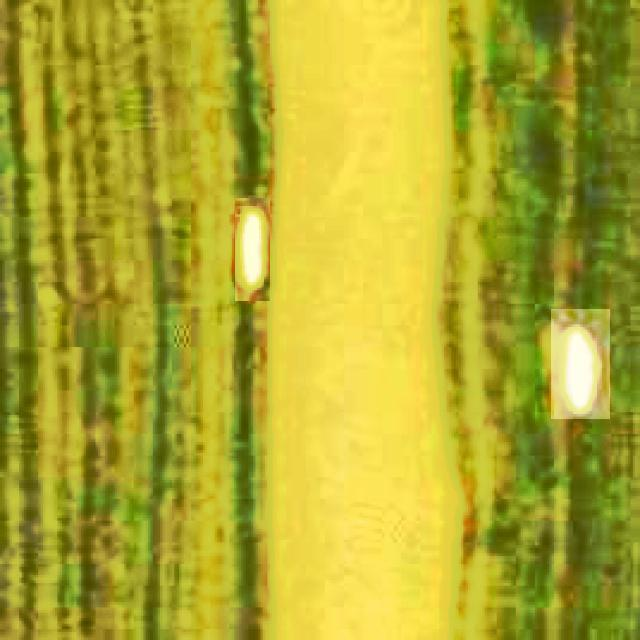whorl-maggot: (551, 310, 610, 420), (235, 198, 270, 301)
